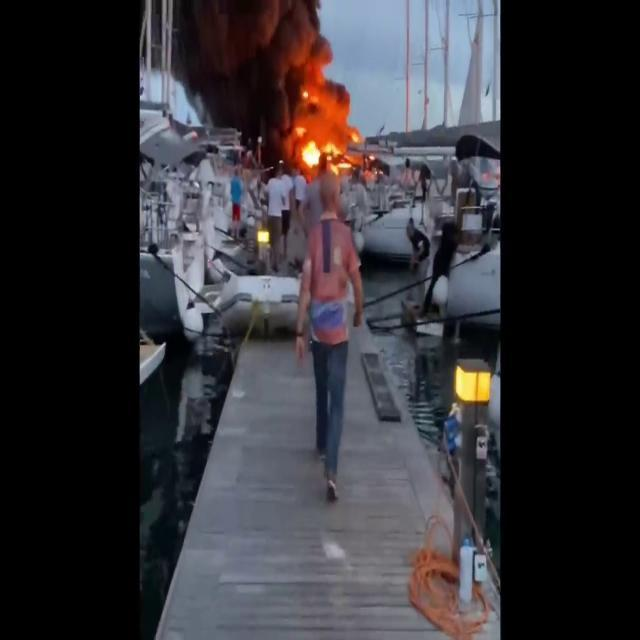Fire: (290, 114, 366, 178)
Smoke: (172, 0, 352, 133)
